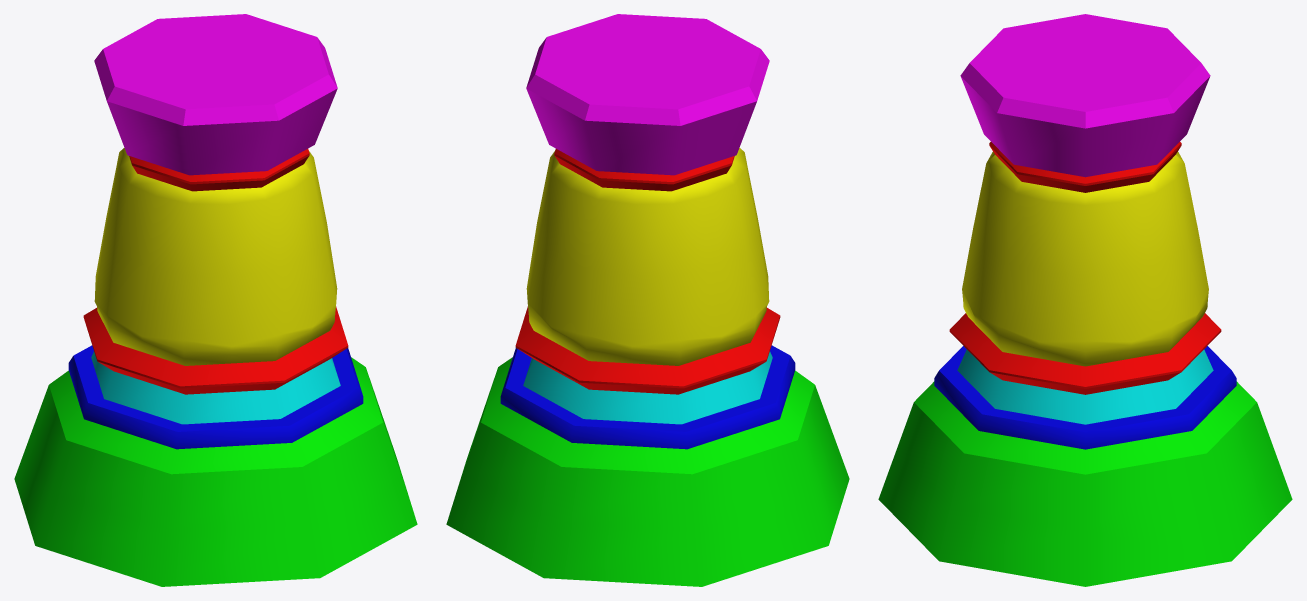
File: Pillar01_ID.fbx
The picture shows the model from 3 angles, left to right: view 1: azimuth 30°, elevation 25°; view 2: azimuth 150°, elevation 25°; view 3: azimuth 270°, elevation 25°; orthographic projection.
Visible parts, largest first — view 1: Base, Column, Top; view 2: Base, Column, Top; view 3: Base, Column, Top.
Boxes of the visible parts, box(x1,y1,x2,y2) form: Base: box(14, 306, 417, 586); Column: box(94, 148, 337, 365); Top: box(94, 14, 337, 191); Base: box(446, 306, 849, 586); Column: box(526, 148, 769, 365); Top: box(526, 14, 769, 191); Base: box(878, 313, 1292, 586); Column: box(962, 152, 1208, 366); Top: box(960, 14, 1210, 192).
Bounding box in the file's own units: 2.29 × 2.66 × 2.29.
